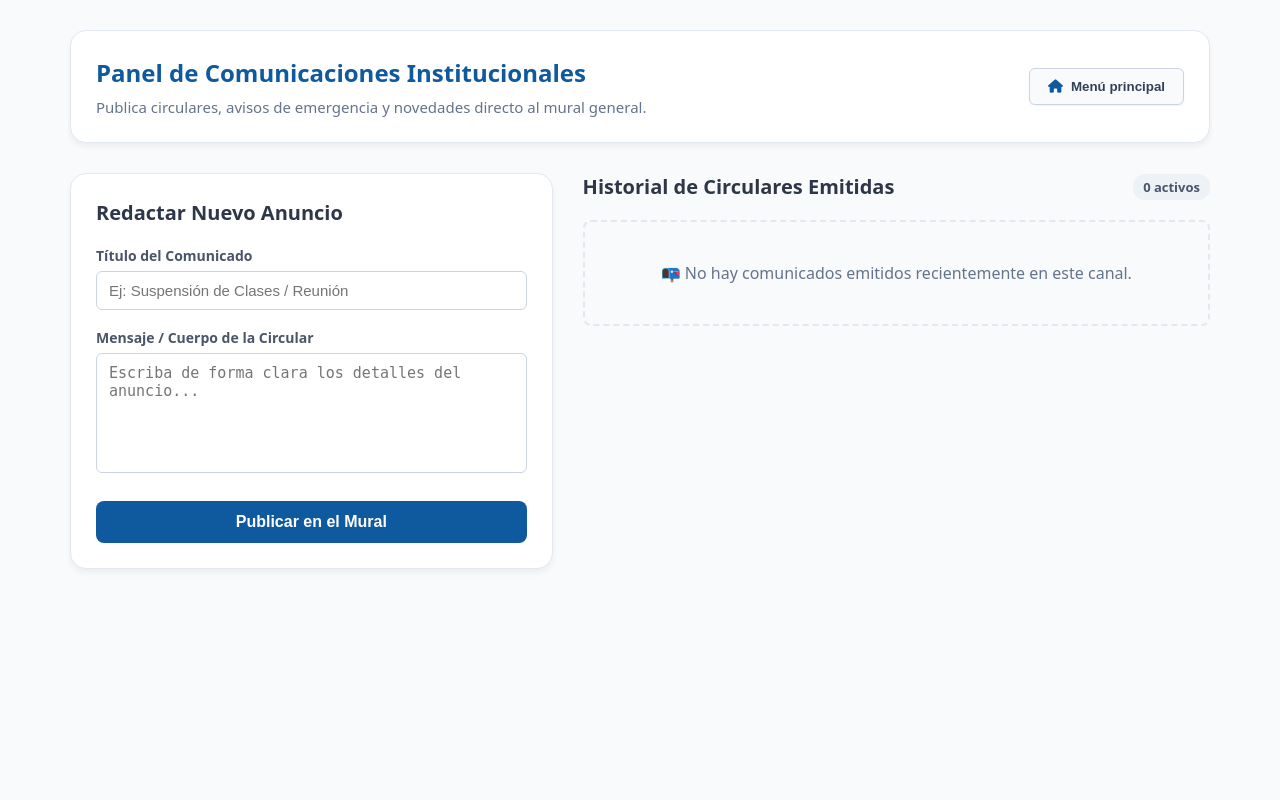
Componente de Gestión de Comunicaciones › no debe publicar si el usuario cancela el modal de confirmación
Type "Urgente Suspensión" into the field with placeholder "Ej: Suspensión de Clases / Reunión" at [311, 290], box x1=96 y1=271 x2=527 y2=310
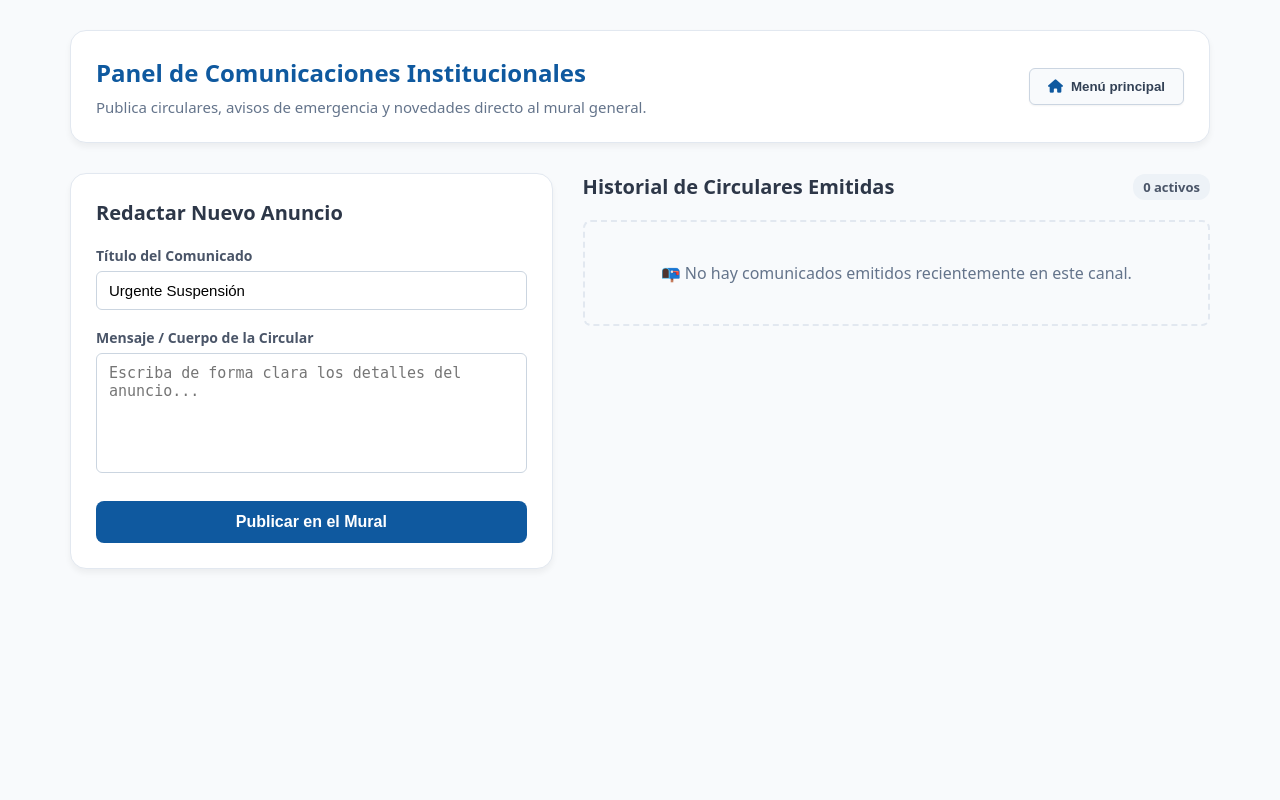
Type "No habrá clases por lluvia." into the text box with placeholder "Escriba de forma clara los detalles del anuncio..." at [311, 413], box x1=96 y1=353 x2=527 y2=473
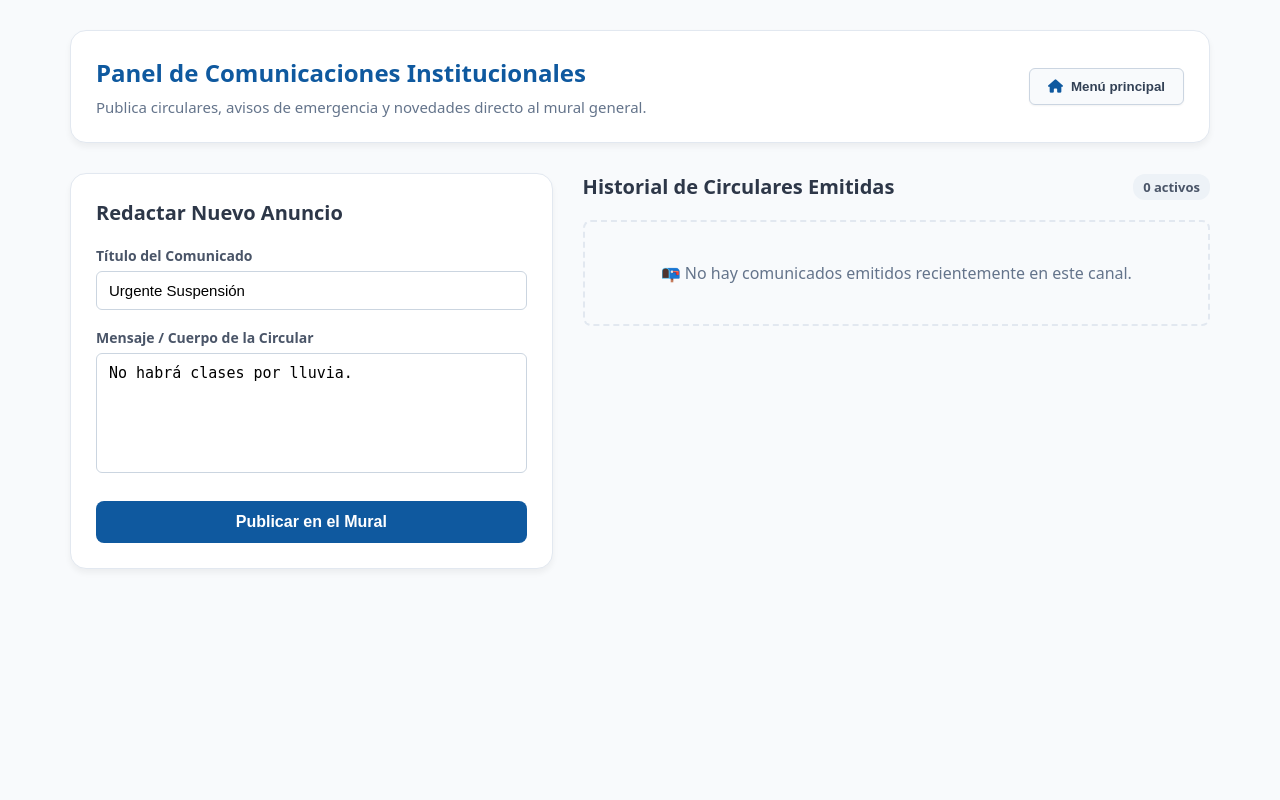
Click the button "Publicar en el Mural" at [311, 522], box x1=96 y1=501 x2=527 y2=543
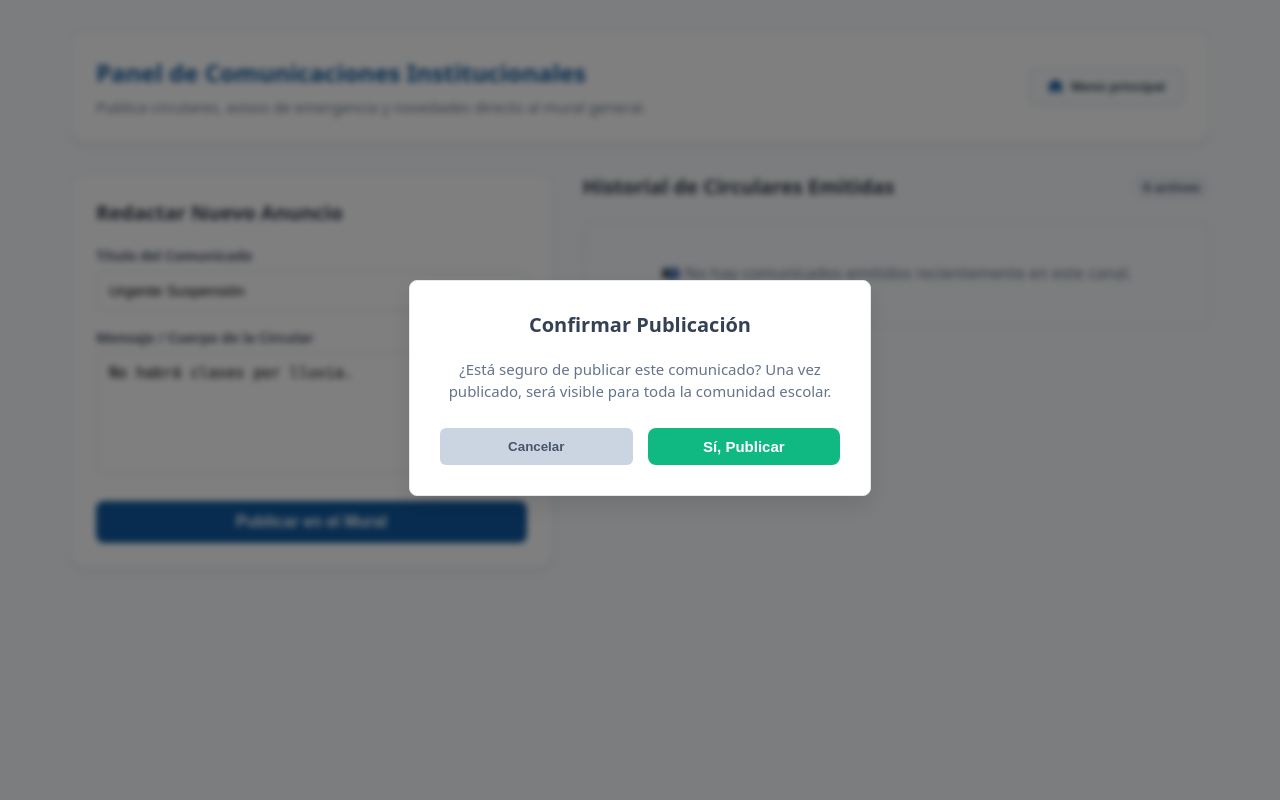
Expected: the heading "Confirmar Publicación" is shown, x1=529 y1=310 x2=751 y2=338
Click the button "Cancelar" at [536, 446], box x1=440 y1=428 x2=632 y2=464
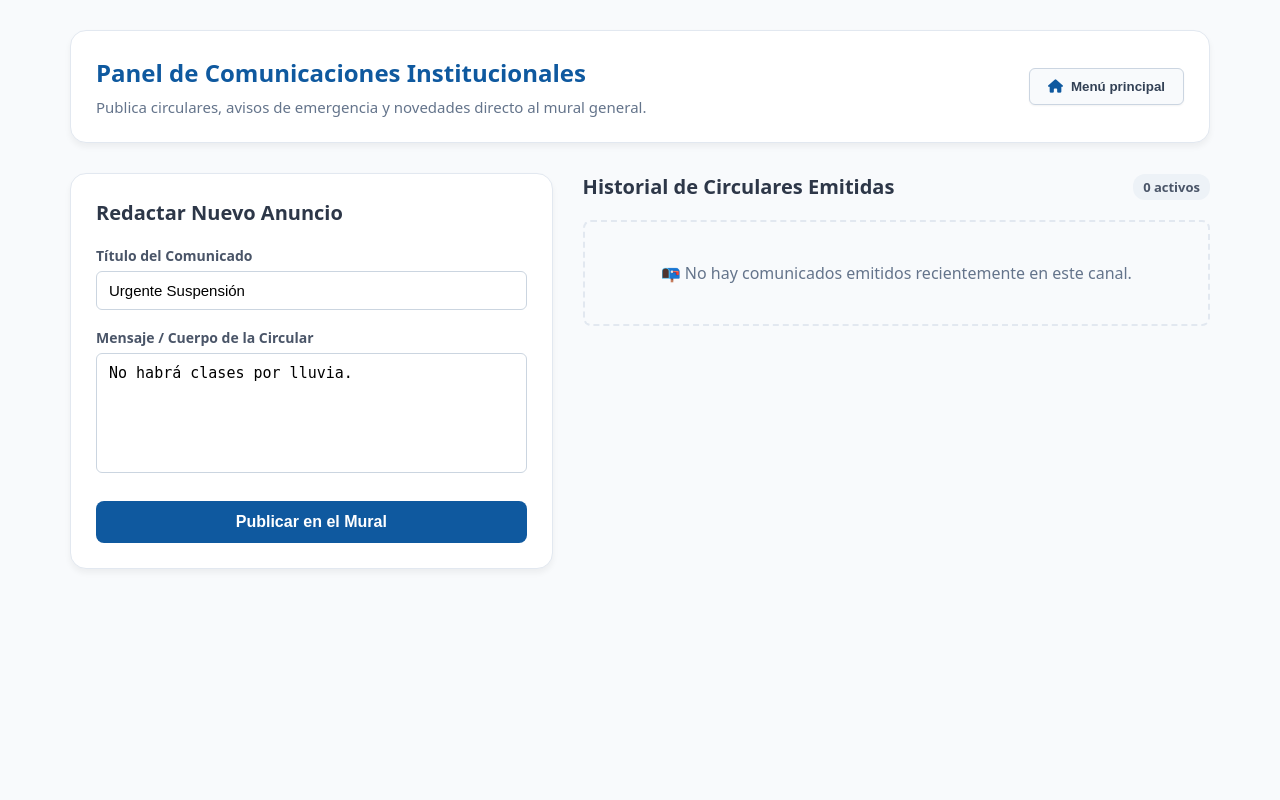
Expected: the heading "Confirmar Publicación" is gone
